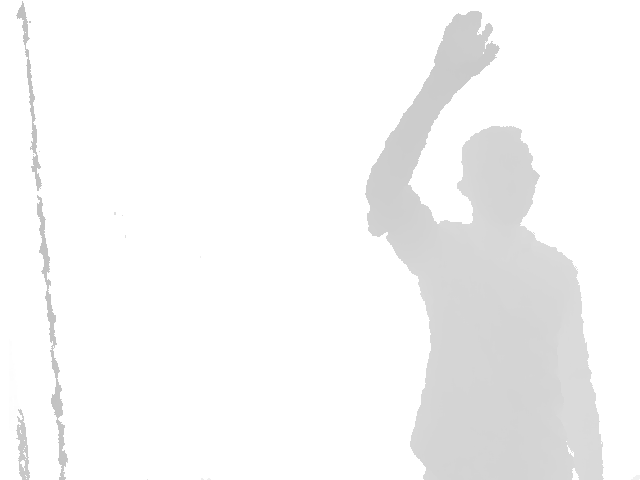hand: (435, 10, 500, 86)
head: (456, 124, 540, 226)
person: (364, 10, 605, 480)
